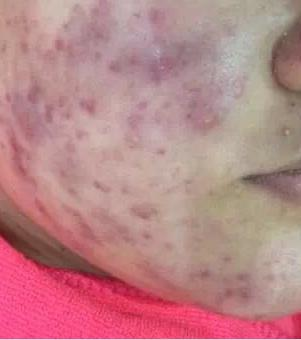fore: (1, 6, 36, 32), (151, 41, 177, 73), (14, 108, 42, 137), (92, 176, 118, 207), (55, 91, 78, 124), (173, 32, 202, 58), (57, 162, 88, 186), (124, 198, 155, 222), (22, 77, 47, 106), (99, 53, 126, 78), (79, 95, 103, 123), (124, 124, 147, 152), (97, 209, 125, 232), (134, 253, 155, 283), (27, 197, 51, 223), (24, 162, 46, 189), (217, 249, 239, 276), (11, 140, 30, 171), (190, 267, 214, 291), (13, 39, 39, 61), (116, 225, 137, 252), (36, 103, 56, 130), (124, 45, 145, 70), (88, 19, 109, 41), (48, 31, 70, 52), (79, 219, 100, 241), (180, 84, 201, 106), (217, 283, 239, 303), (92, 144, 112, 166), (178, 213, 202, 231), (143, 10, 168, 26), (140, 225, 158, 247), (4, 88, 21, 111), (180, 174, 197, 195), (194, 106, 210, 128), (216, 94, 229, 121), (152, 143, 171, 161), (63, 130, 84, 146), (143, 69, 160, 88), (156, 182, 180, 195), (56, 14, 75, 30), (227, 82, 246, 98), (93, 121, 112, 136), (148, 108, 164, 125), (67, 206, 82, 224), (236, 287, 254, 302), (167, 163, 182, 180), (160, 237, 176, 252), (62, 152, 78, 167), (158, 97, 174, 111), (67, 1, 84, 14), (180, 106, 194, 121), (285, 97, 300, 111), (260, 270, 276, 283), (129, 107, 143, 121), (236, 272, 251, 285), (63, 224, 78, 237), (7, 182, 20, 197), (129, 7, 142, 21), (0, 36, 10, 54), (86, 0, 102, 11), (135, 98, 151, 109), (276, 124, 288, 138), (0, 136, 7, 152), (66, 234, 77, 244)
